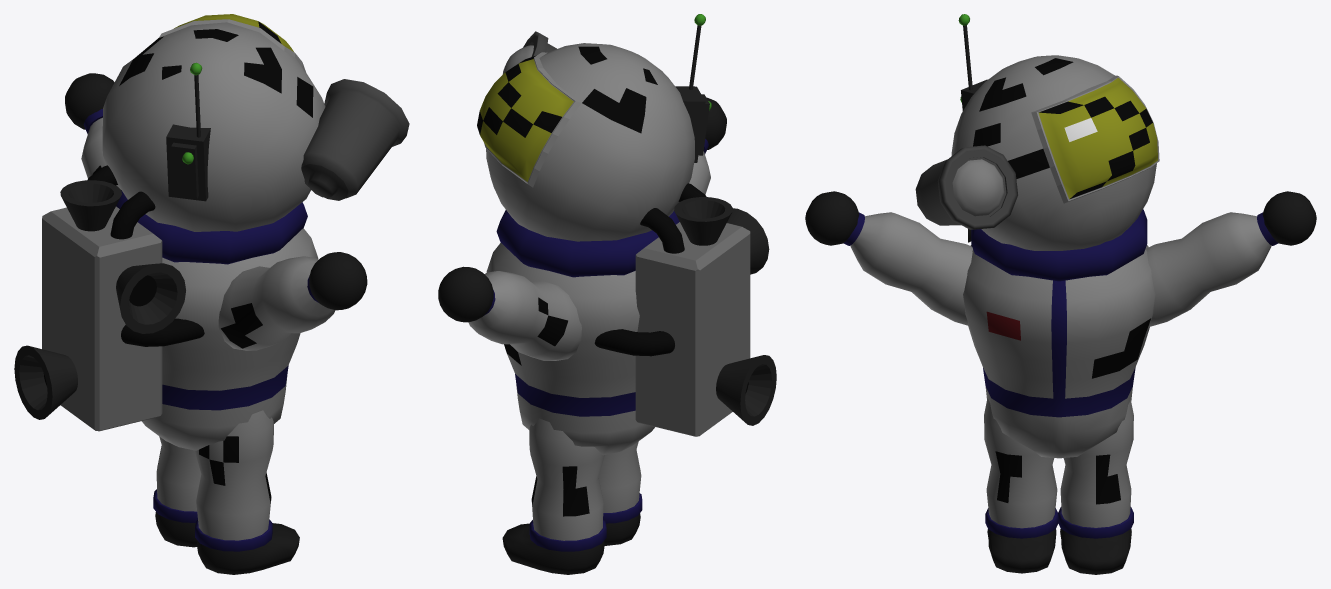
File: Injured_Friend.fbx
3 renders of one model, left to right at view 1: azimuth 30°, elevation 25°; view 2: azimuth 150°, elevation 25°; view 3: azimuth 270°, elevation 25°, orthographic. The views are drawn at different scales.
Visible parts, largest first — view 1: polySurface194; view 2: polySurface194; view 3: polySurface194.
Boxes of the visible parts, x1=… form: polySurface194: x1=14, y1=14, x2=409, y2=574; polySurface194: x1=438, y1=14, x2=776, y2=574; polySurface194: x1=805, y1=14, x2=1316, y2=574.
Bounding box in the file's own units: 7.63 × 12.33 × 11.37.
